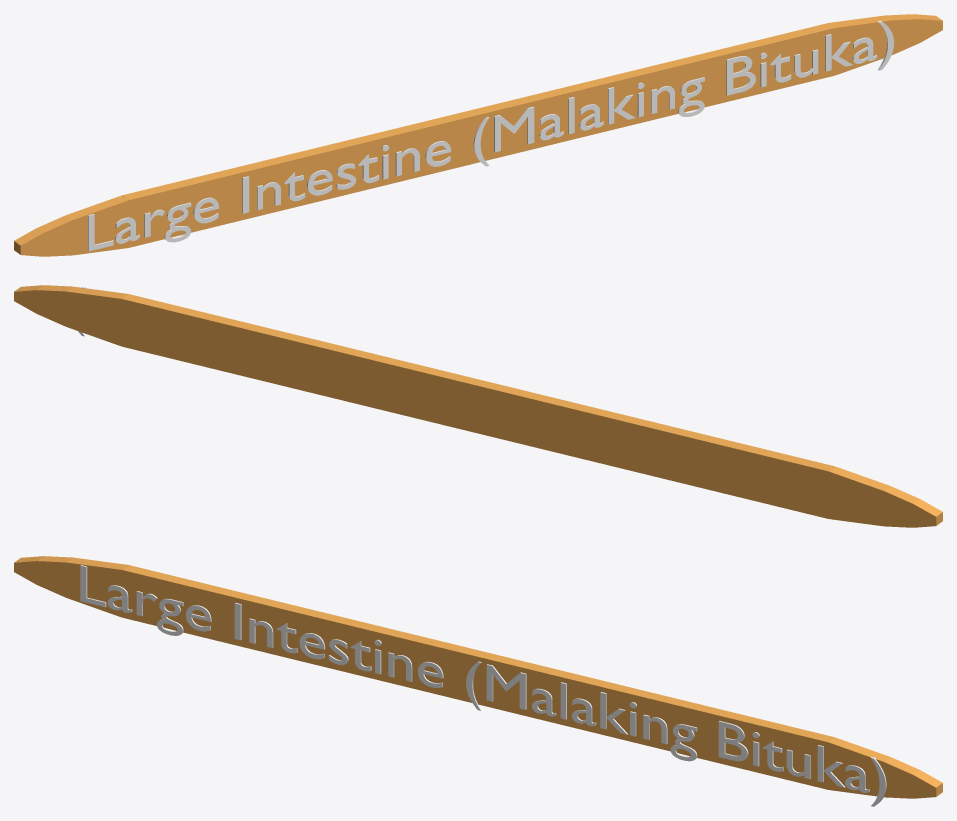
Rendered from txtLargeIntestine.fbx.
3 views of the same model, one above another, from view 1: azimuth 30°, elevation 25°; view 2: azimuth 150°, elevation 25°; view 3: azimuth 330°, elevation 25° (orthographic).
Visible parts, largest first — view 1: TagContainer.075, Text.076; view 2: TagContainer.075; view 3: TagContainer.075, Text.076.
Part boxes in pixels (left/top/right/bottom): TagContainer.075: left=14, top=14, right=942, bottom=256; Text.076: left=88, top=20, right=894, bottom=251; TagContainer.075: left=14, top=285, right=942, bottom=527; TagContainer.075: left=14, top=556, right=942, bottom=798; Text.076: left=80, top=565, right=886, bottom=806.
Bounding box in the file's own units: 836 × 45.66 × 11.92.
